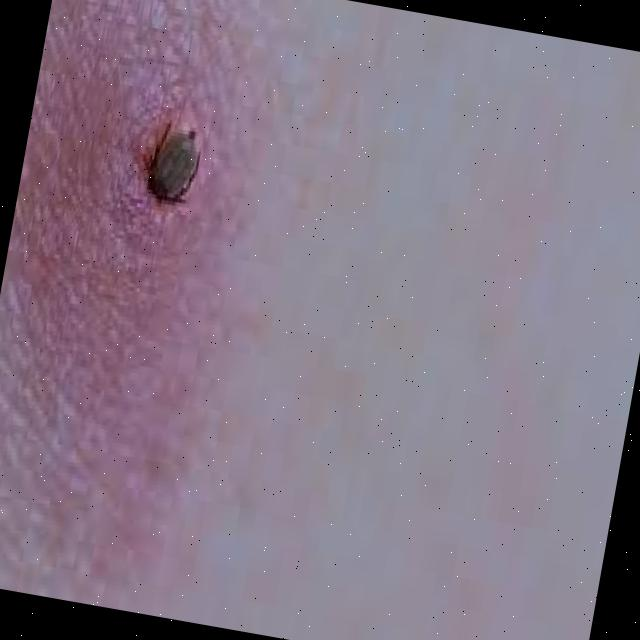kene: (119, 82, 237, 239)
